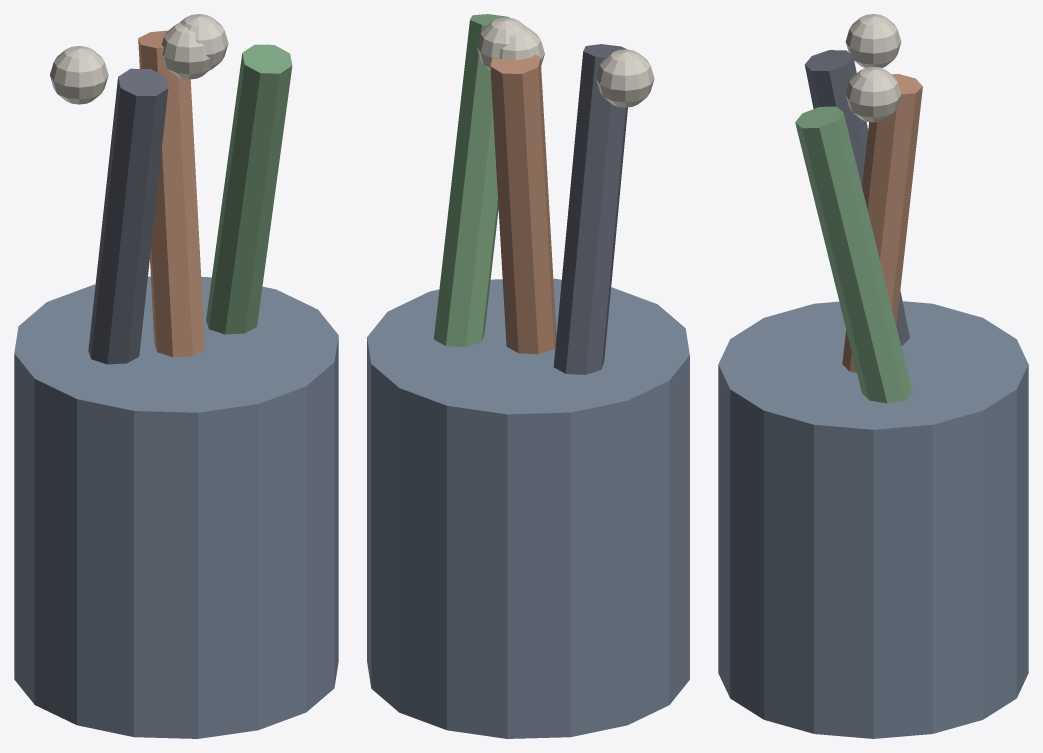
Rendered from office_porta_canetas_coz.glb.
The picture shows the model from 3 angles, left to right: view 1: azimuth 30°, elevation 25°; view 2: azimuth 150°, elevation 25°; view 3: azimuth 270°, elevation 25°; orthographic projection. The views are drawn at different scales.
Parts seen in each view (by area): view 1: OFFICE_PortaCanetasCoz_Copo, OFFICE_PortaCanetasCoz_Caneta0, OFFICE_PortaCanetasCoz_Caneta2, OFFICE_PortaCanetasCoz_Caneta1, OFFICE_PortaCanetasCoz_Ponta0, OFFICE_PortaCanetasCoz_Ponta2, OFFICE_PortaCanetasCoz_Ponta1; view 2: OFFICE_PortaCanetasCoz_Copo, OFFICE_PortaCanetasCoz_Caneta1, OFFICE_PortaCanetasCoz_Caneta0, OFFICE_PortaCanetasCoz_Caneta2, OFFICE_PortaCanetasCoz_Ponta0, OFFICE_PortaCanetasCoz_Ponta1, OFFICE_PortaCanetasCoz_Ponta2; view 3: OFFICE_PortaCanetasCoz_Copo, OFFICE_PortaCanetasCoz_Caneta2, OFFICE_PortaCanetasCoz_Caneta1, OFFICE_PortaCanetasCoz_Caneta0, OFFICE_PortaCanetasCoz_Ponta1, OFFICE_PortaCanetasCoz_Ponta0.
Part boxes in pixels (<box>): OFFICE_PortaCanetasCoz_Copo: <box>14,276,338,738</box>; OFFICE_PortaCanetasCoz_Caneta0: <box>88,68,168,364</box>; OFFICE_PortaCanetasCoz_Caneta2: <box>206,44,292,334</box>; OFFICE_PortaCanetasCoz_Caneta1: <box>138,30,204,357</box>; OFFICE_PortaCanetasCoz_Ponta0: <box>50,46,108,104</box>; OFFICE_PortaCanetasCoz_Ponta2: <box>161,22,212,79</box>; OFFICE_PortaCanetasCoz_Ponta1: <box>180,14,228,69</box>; OFFICE_PortaCanetasCoz_Copo: <box>367,278,689,738</box>; OFFICE_PortaCanetasCoz_Caneta1: <box>490,54,556,354</box>; OFFICE_PortaCanetasCoz_Caneta0: <box>553,44,627,374</box>; OFFICE_PortaCanetasCoz_Caneta2: <box>434,14,509,346</box>; OFFICE_PortaCanetasCoz_Ponta0: <box>596,49,654,107</box>; OFFICE_PortaCanetasCoz_Ponta1: <box>476,17,525,70</box>; OFFICE_PortaCanetasCoz_Ponta2: <box>499,26,544,66</box>; OFFICE_PortaCanetasCoz_Copo: <box>718,301,1028,738</box>; OFFICE_PortaCanetasCoz_Caneta2: <box>795,106,912,403</box>; OFFICE_PortaCanetasCoz_Caneta1: <box>842,74,922,372</box>; OFFICE_PortaCanetasCoz_Caneta0: <box>804,50,909,345</box>; OFFICE_PortaCanetasCoz_Ponta1: <box>845,67,901,122</box>; OFFICE_PortaCanetasCoz_Ponta0: <box>845,14,901,67</box>.
Bounding box in the file's own units: 0.1 × 0.2186 × 0.1.
